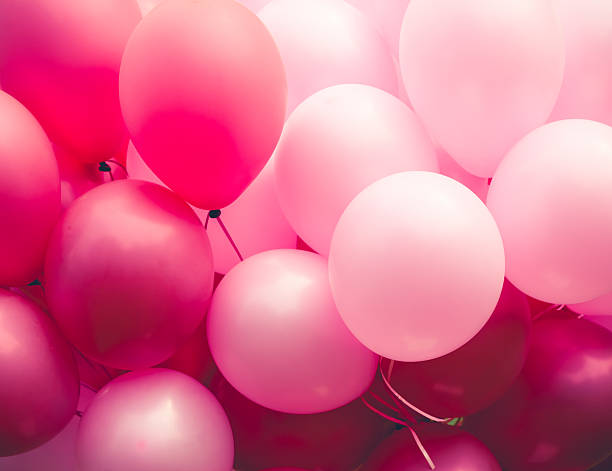Balloon: (119, 1, 286, 208), (329, 169, 507, 362), (46, 181, 214, 371), (399, 1, 564, 171), (207, 249, 377, 413), (490, 120, 612, 304), (1, 1, 140, 153), (497, 314, 612, 471), (76, 369, 235, 471), (1, 292, 83, 455)
